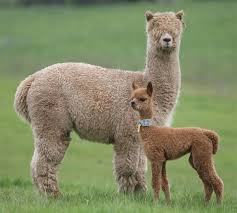alpaca: (13, 8, 184, 196), (130, 80, 223, 206)
